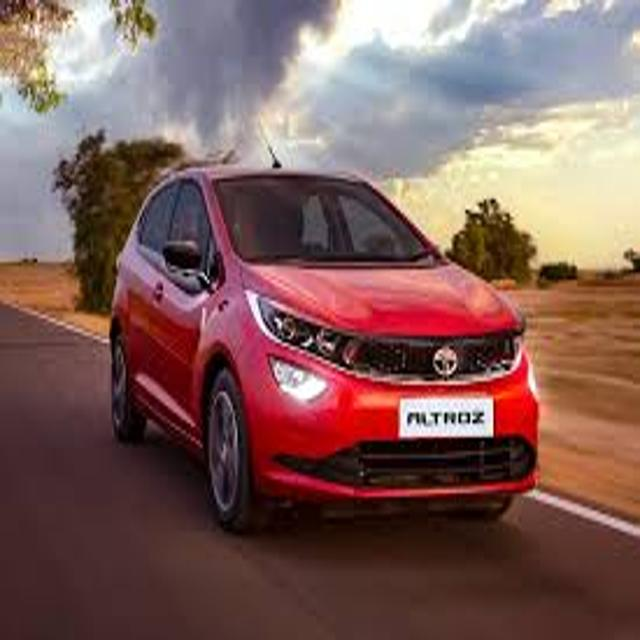car: (113, 166, 539, 534)
